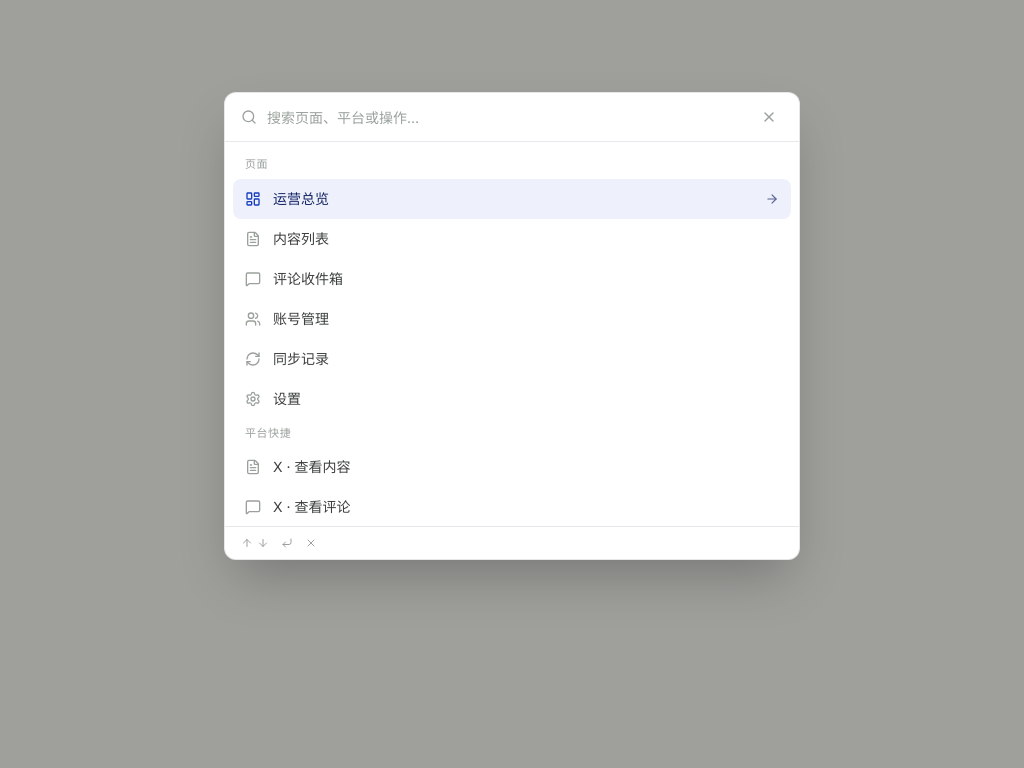
Scenario: CommandPalette › shows commands and filters by query
This screenshot has width=1024, height=768.
Expected: the text "运营总览" is shown, [273,190,329,207]
In the field with placeholder "搜索页面、平台或操作…": (506, 117) [267,93,745,141], type "评论"
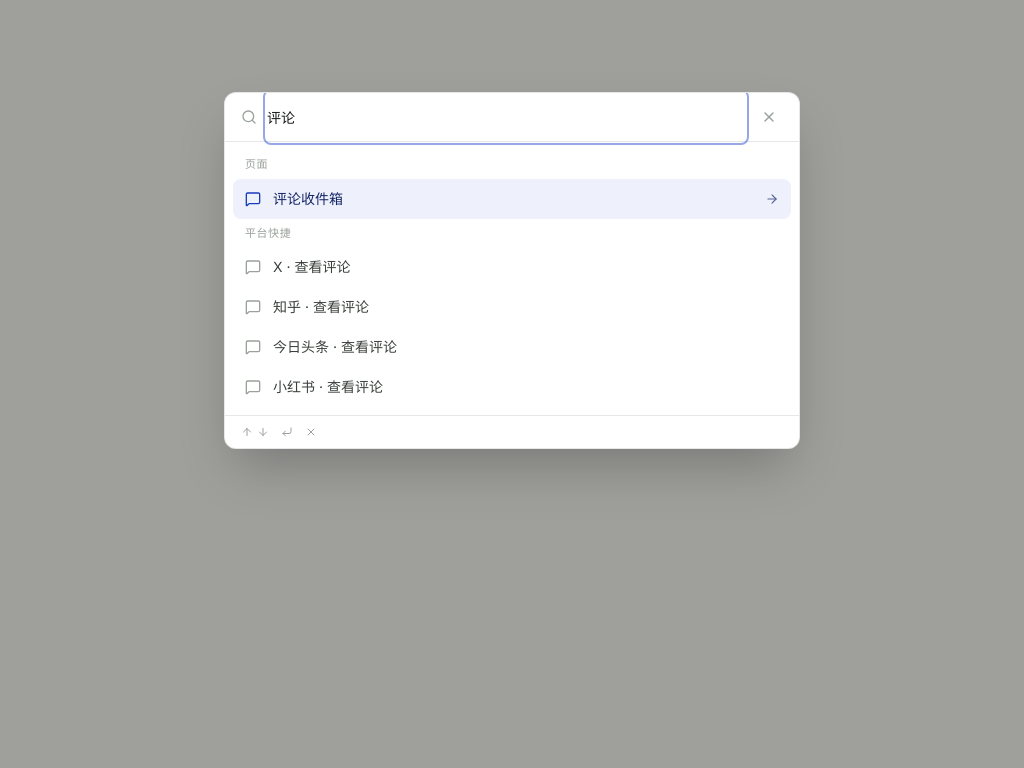
Expected: the text "评论收件箱" is shown, [273,190,343,207]
Expected: the button "运营总览" is gone
